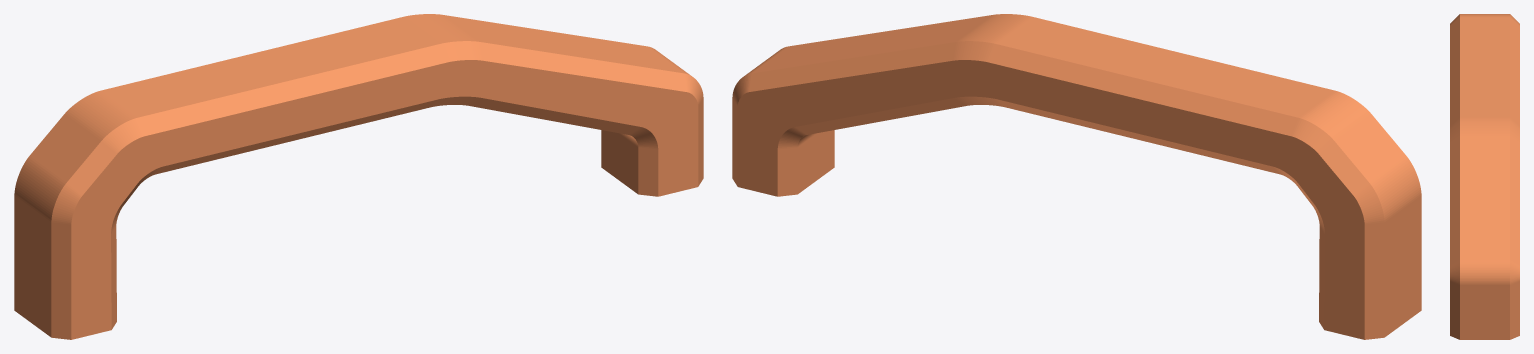
File: Bar_Color.glb
3 renders of one model, left to right at view 1: azimuth 30°, elevation 25°; view 2: azimuth 150°, elevation 25°; view 3: azimuth 270°, elevation 25°, orthographic. The views are drawn at different scales.
Visible parts, largest first — view 1: Soild_Handel.2; view 2: Soild_Handel.2; view 3: Soild_Handel.2.
Part boxes in pixels (x1,y1,x2,y2): Soild_Handel.2: [14, 14, 703, 339]; Soild_Handel.2: [732, 14, 1421, 339]; Soild_Handel.2: [1450, 14, 1519, 339].
Size of the model in its own units: 95.97 by 27.98 by 13.14.
